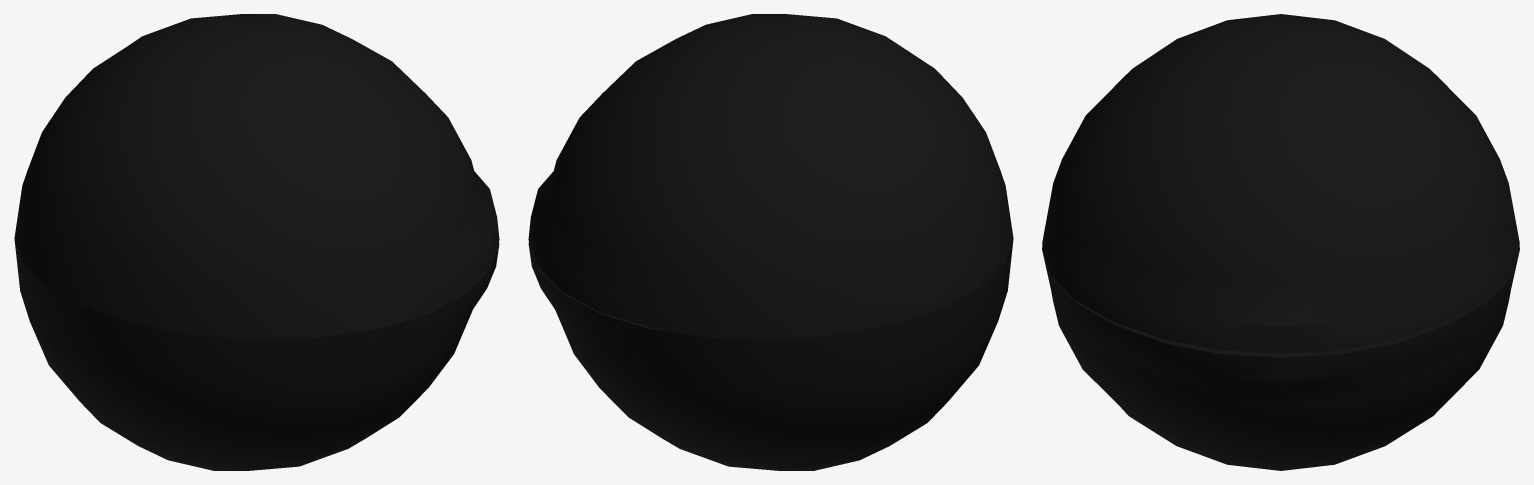
File: AM_Monster_Eye.fbx
3 renders of one model, left to right at view 1: azimuth 30°, elevation 25°; view 2: azimuth 150°, elevation 25°; view 3: azimuth 270°, elevation 25°, orthographic.
Parts seen in each view (by area): view 1: AM_Monster_EyeCoverTop, AM_Monster_EyeCoverBottom; view 2: AM_Monster_EyeCoverTop, AM_Monster_EyeCoverBottom; view 3: AM_Monster_EyeCoverTop, AM_Monster_EyeCoverBottom.
Part boxes in pixels (box(x1,y1,x2,y2)): AM_Monster_EyeCoverTop: box(14, 14, 499, 339); AM_Monster_EyeCoverBottom: box(14, 240, 499, 470); AM_Monster_EyeCoverTop: box(528, 14, 1013, 339); AM_Monster_EyeCoverBottom: box(528, 240, 1013, 470); AM_Monster_EyeCoverTop: box(1042, 14, 1519, 353); AM_Monster_EyeCoverBottom: box(1042, 249, 1519, 470).
Size of the model in its own units: 46.19 by 43.4 by 45.68.
